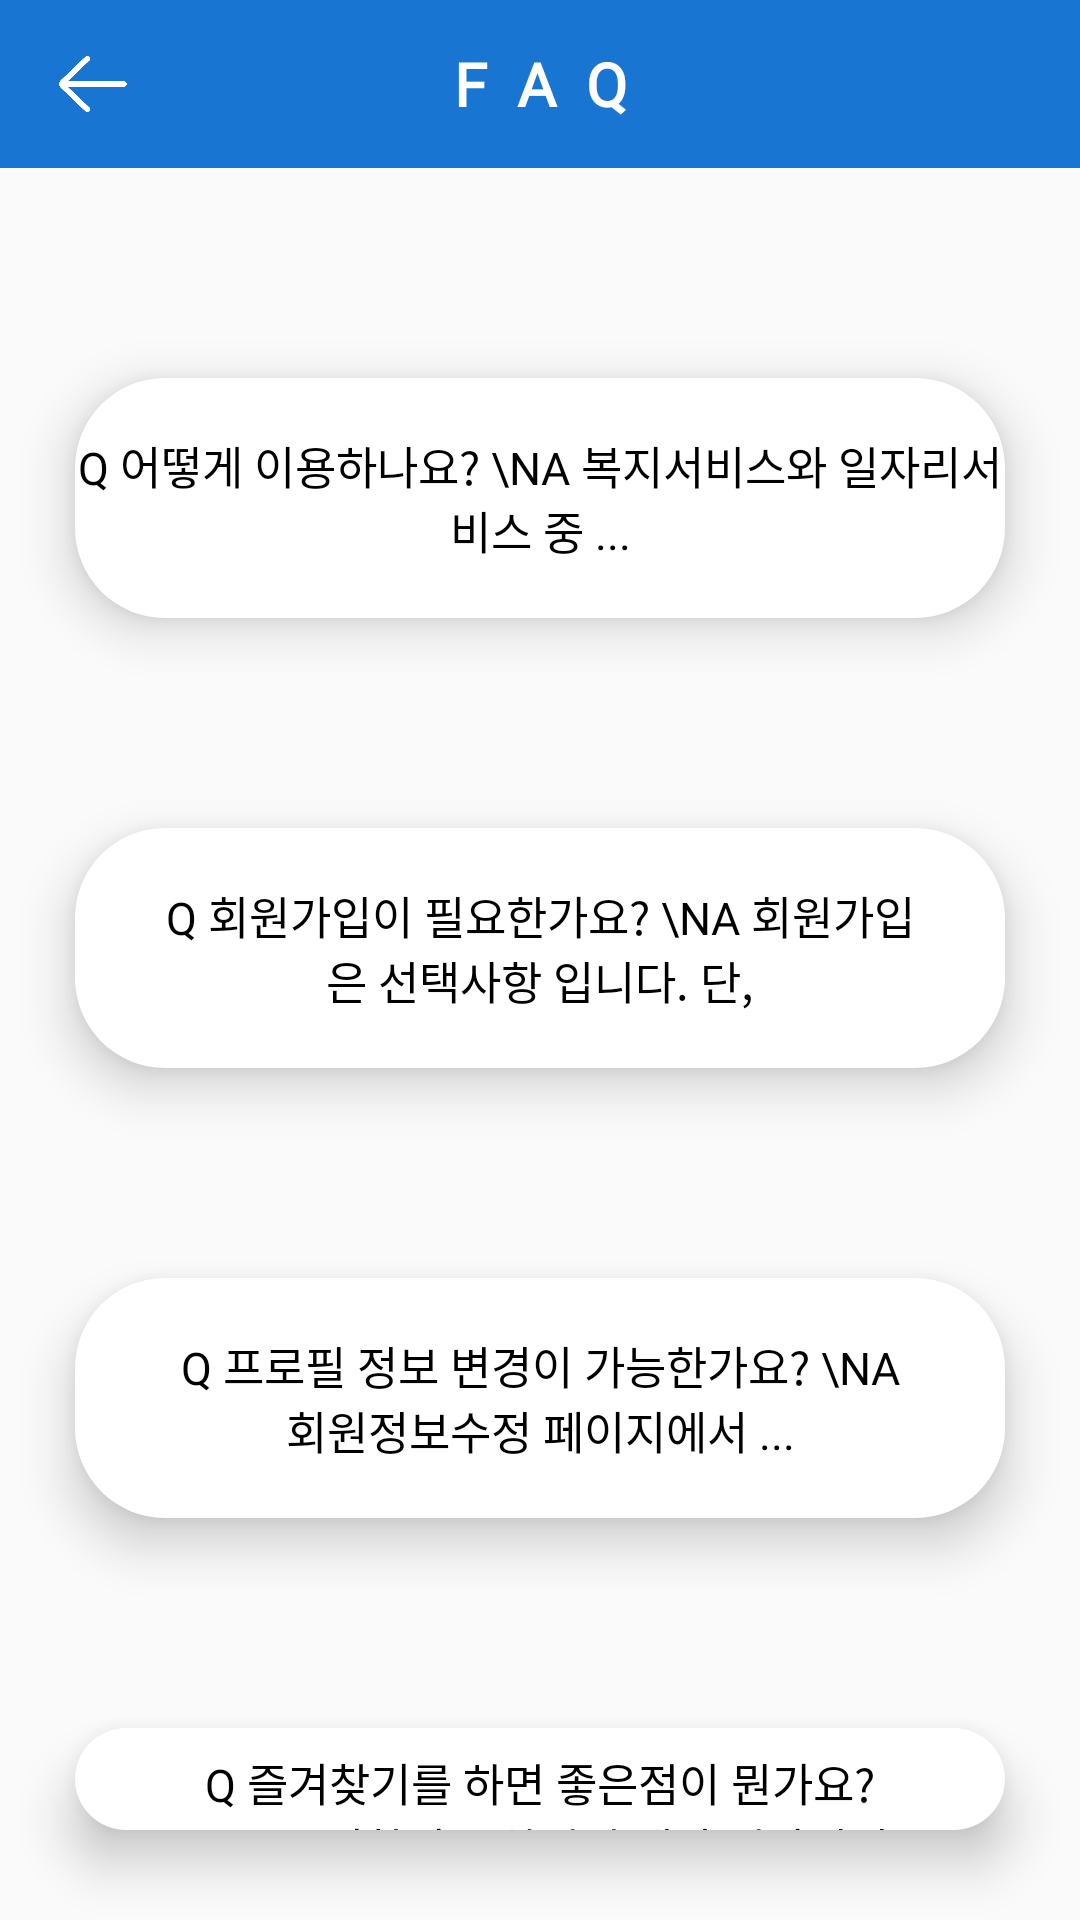

Icons on this 1080px x 1920px Android screen, each with its box as (x1,y1,x2,y2):
backbtn: (59,56,127,112)
